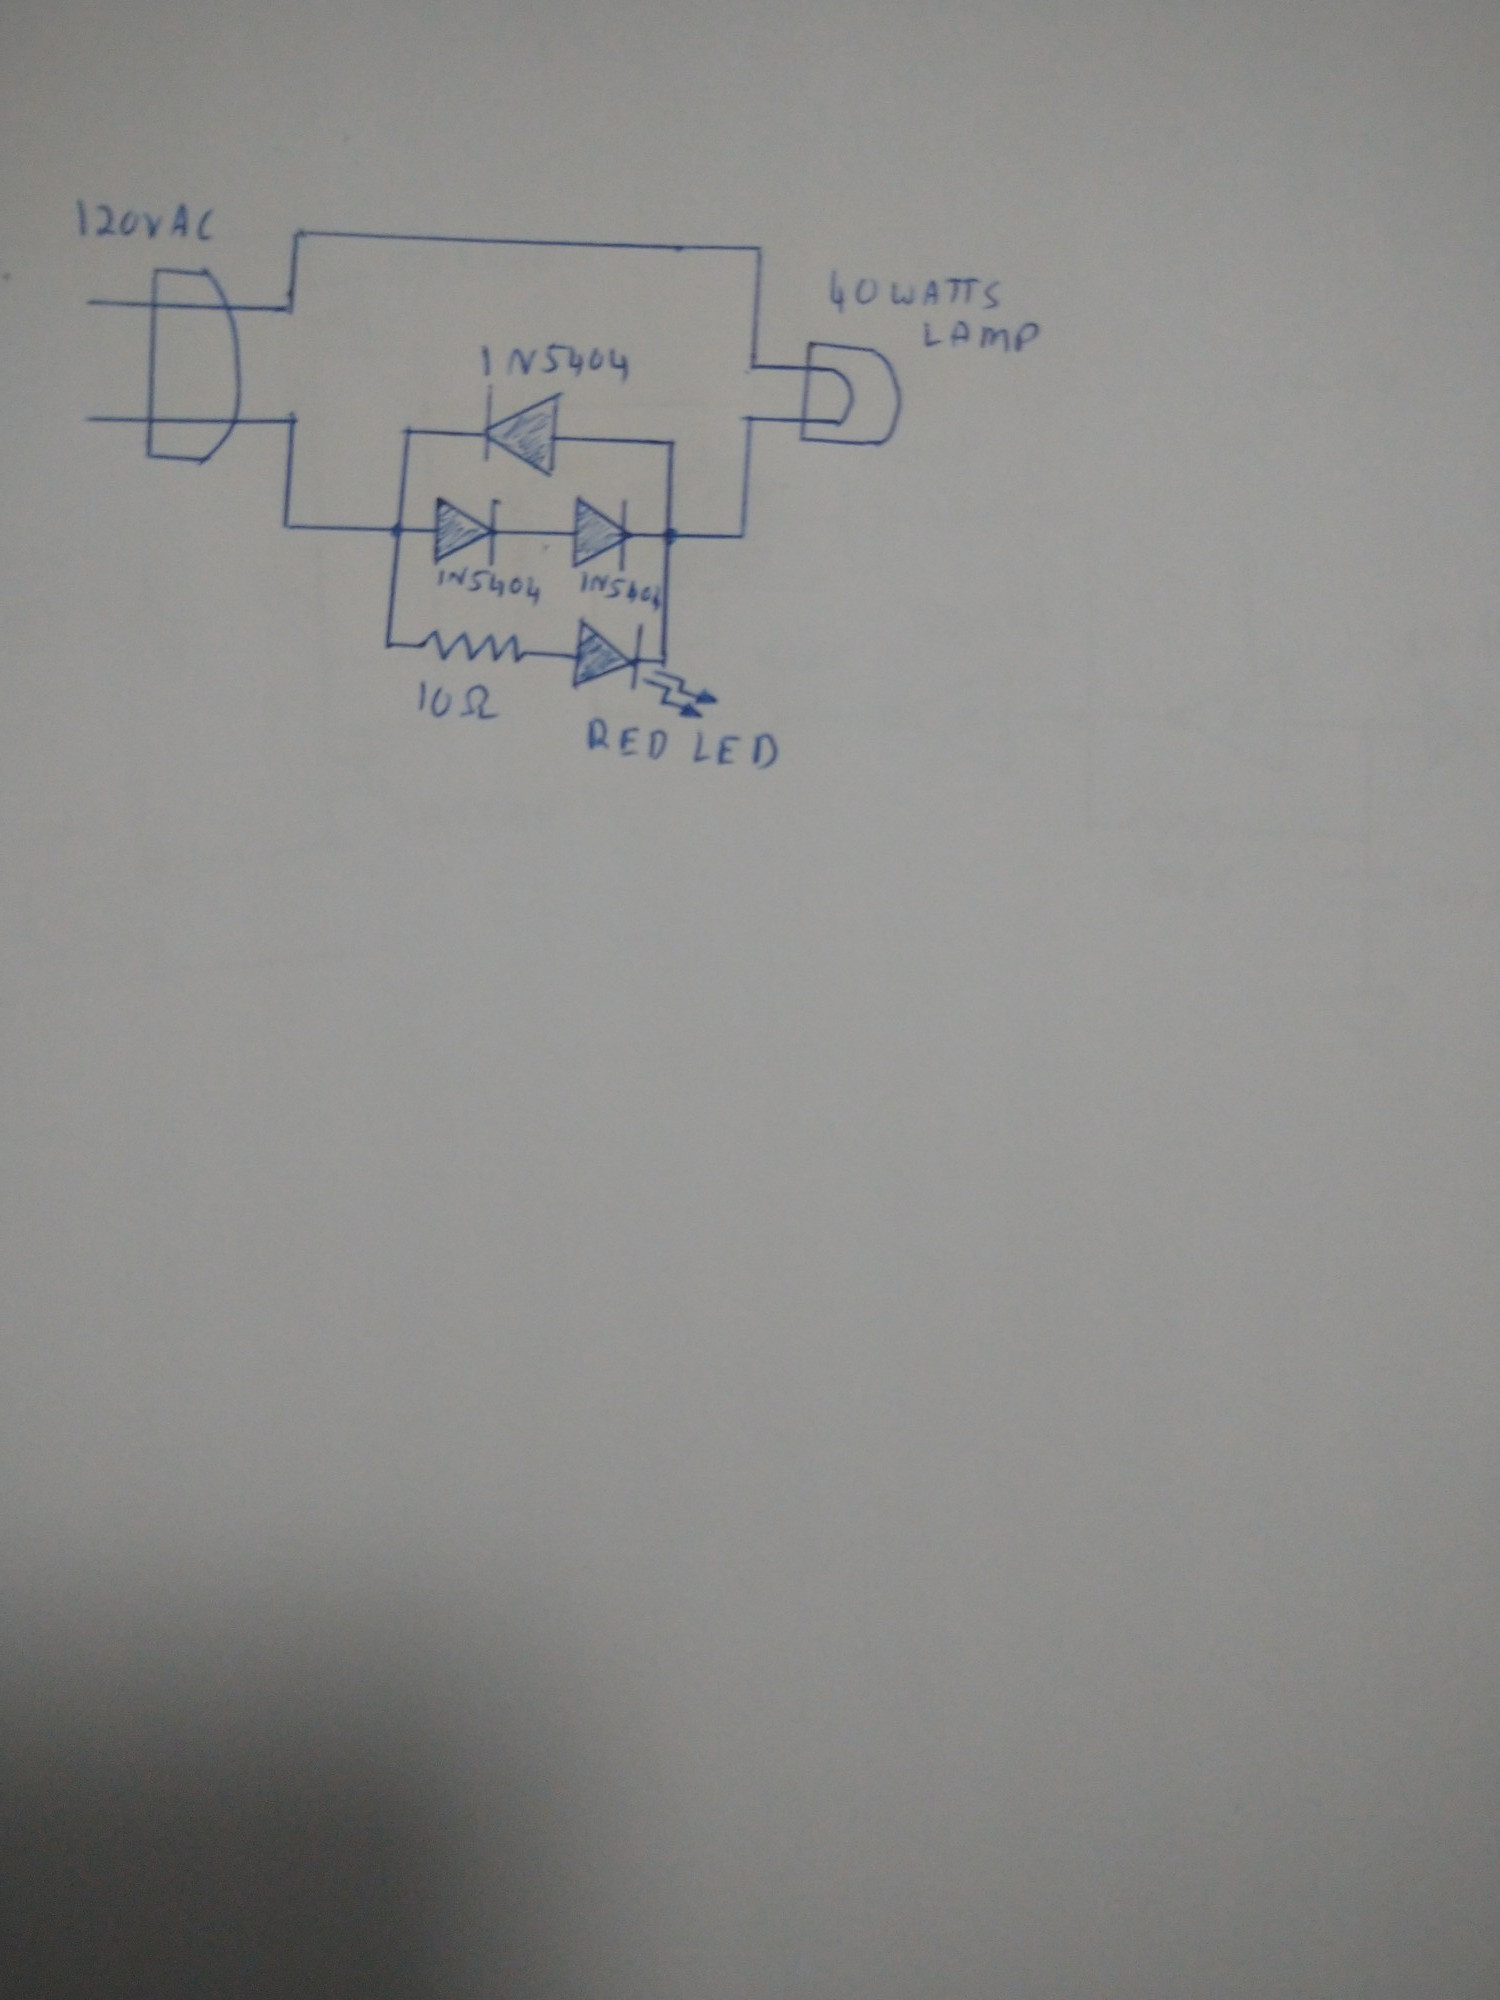diode: (484, 383, 562, 480), (432, 494, 504, 569), (567, 493, 633, 573)
diode.light_emitting: (570, 616, 720, 720)
junction: (657, 523, 682, 550), (388, 520, 411, 542), (659, 431, 682, 454), (280, 411, 306, 430), (277, 296, 299, 317), (744, 356, 766, 376), (739, 409, 761, 428), (380, 635, 399, 655), (733, 524, 752, 545), (748, 239, 770, 257), (287, 227, 307, 243), (276, 518, 295, 534), (402, 422, 418, 439)
lamp: (797, 339, 904, 450)
resistor: (414, 627, 533, 672)
socket: (140, 265, 244, 468)
terminal: (77, 294, 99, 310), (79, 411, 99, 427)
text: (583, 717, 782, 773), (66, 195, 222, 247), (826, 269, 1002, 310), (477, 342, 632, 384), (433, 564, 544, 606), (920, 320, 1041, 356), (411, 679, 499, 726), (578, 569, 663, 613)
